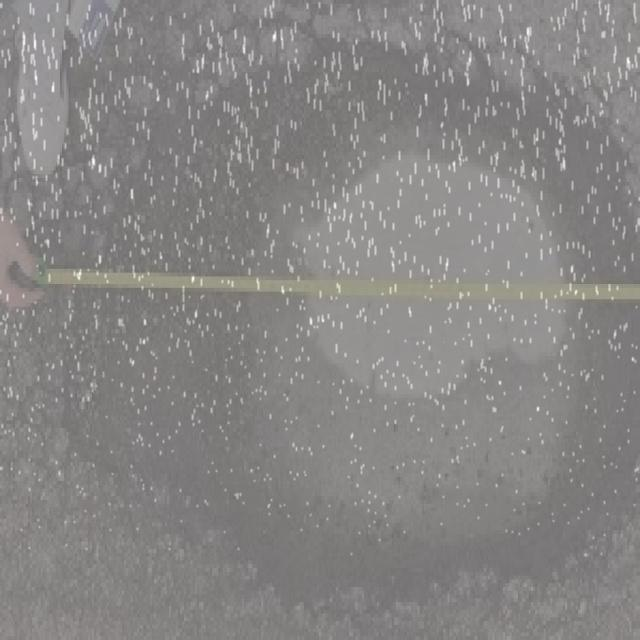Pothole: (0, 27, 640, 602)
